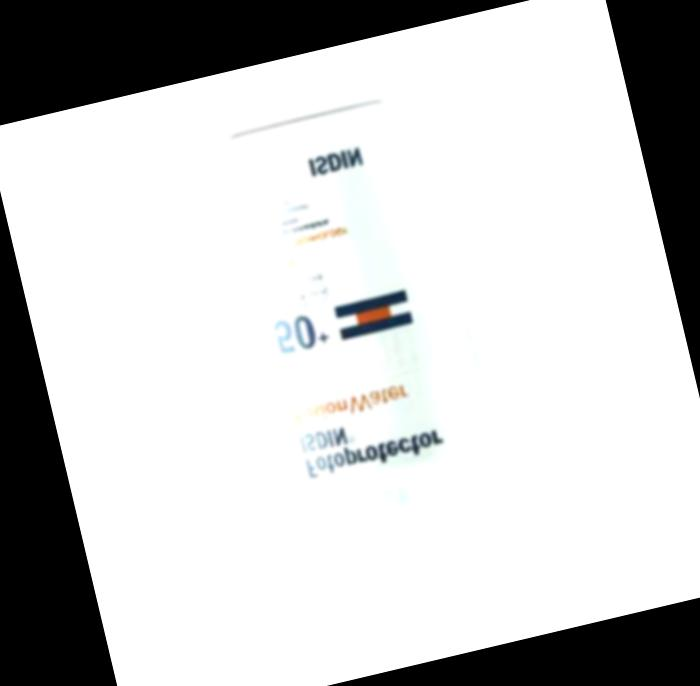cosmetic: (200, 88, 527, 617)
